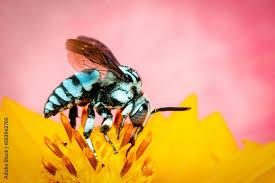Thyreus: (37, 31, 189, 144)
